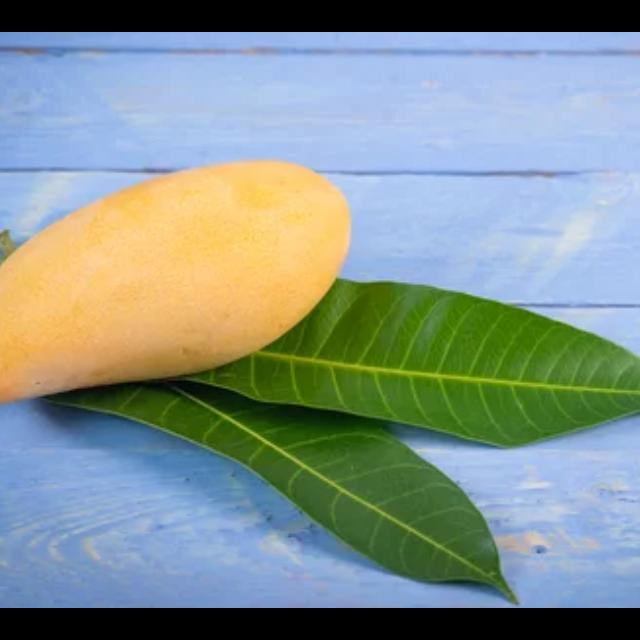mango: (0, 158, 353, 408)
